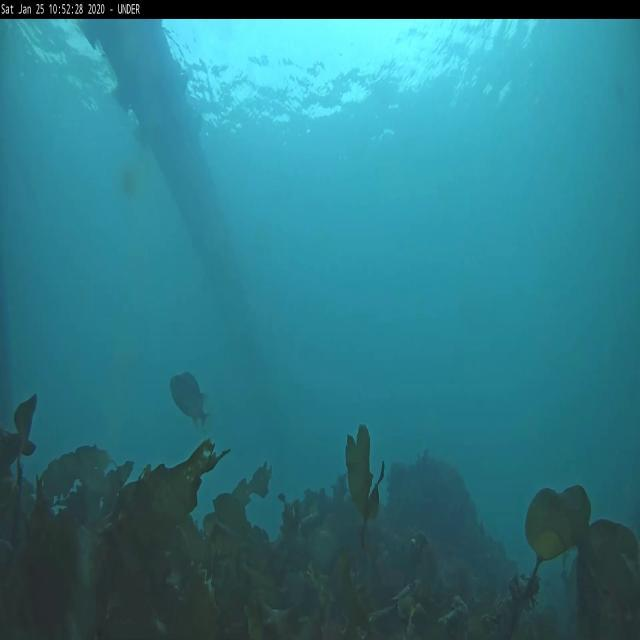fish: (173, 373, 213, 429)
